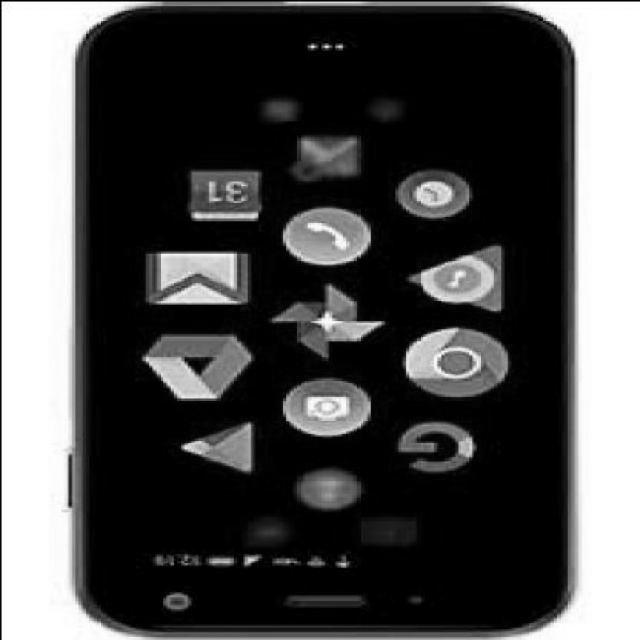fake: (71, 2, 577, 638)
